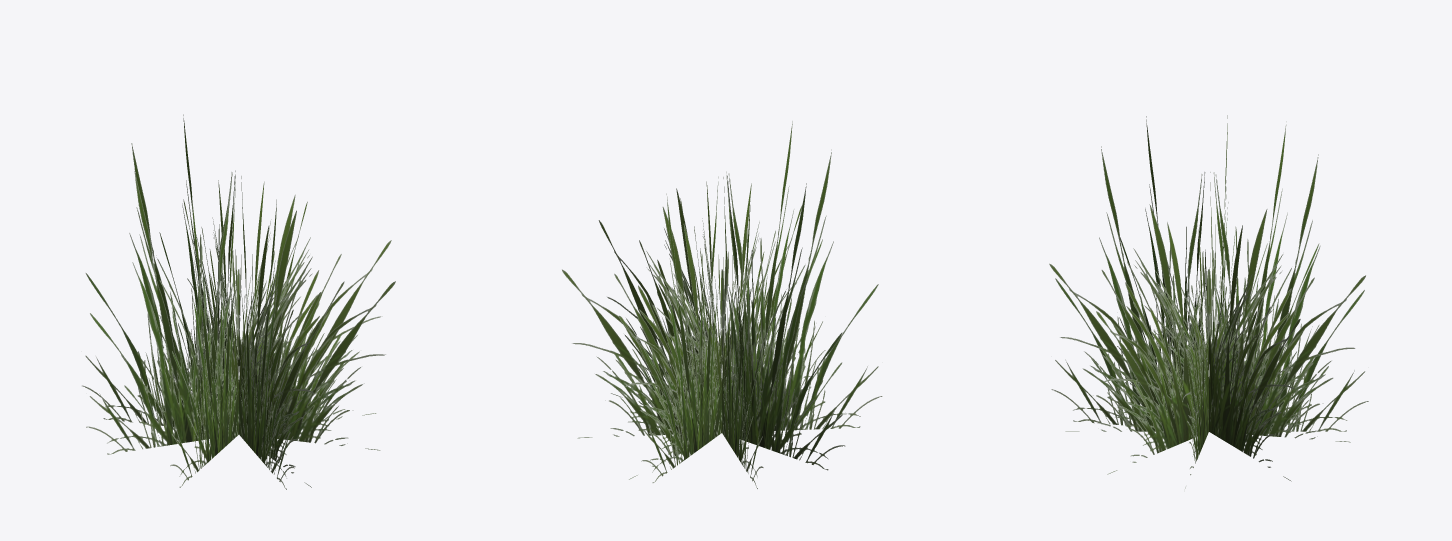
The model's file is grass.glb.
3 renders of one model, left to right at view 1: azimuth 30°, elevation 25°; view 2: azimuth 150°, elevation 25°; view 3: azimuth 270°, elevation 25°, orthographic.
Visible parts, largest first — view 1: Plane; view 2: Plane; view 3: Plane.
Part boxes in pixels (x1,y1,x2,y2): Plane: (82,114,395,489); Plane: (562,121,882,488); Plane: (1049,115,1368,488).
Bounding box in the file's own units: 1.97 × 1.56 × 2.
1 material, 1 textured.
